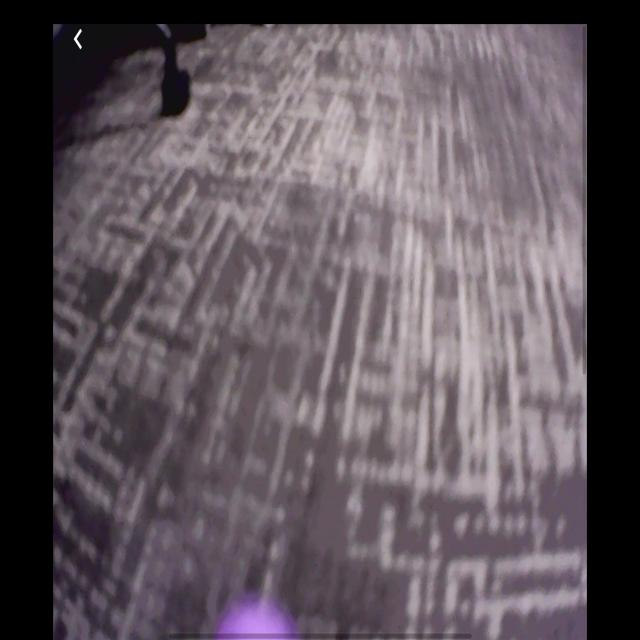ball: (215, 592, 302, 639)
